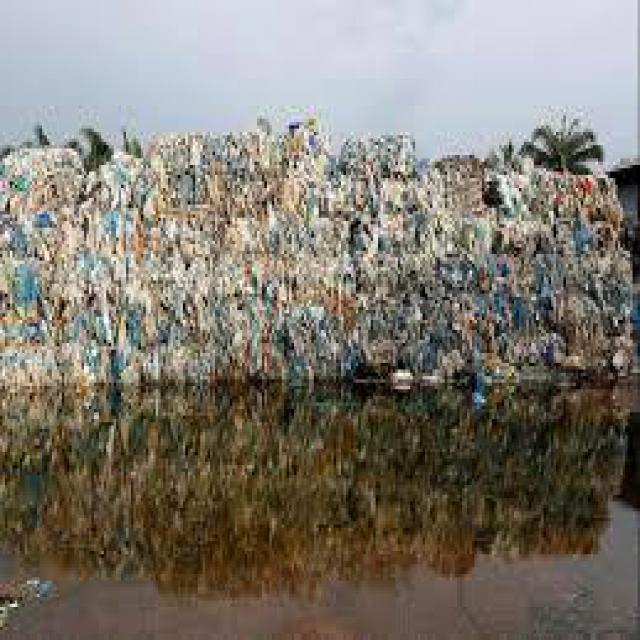garbage: (0, 129, 638, 419)
